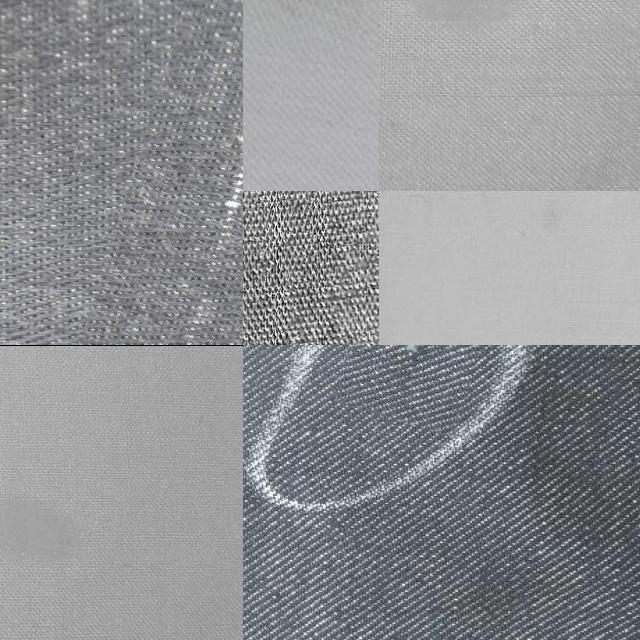Hole: (379, 0, 622, 96)
Thread_other: (70, 0, 243, 345), (340, 345, 484, 429)
